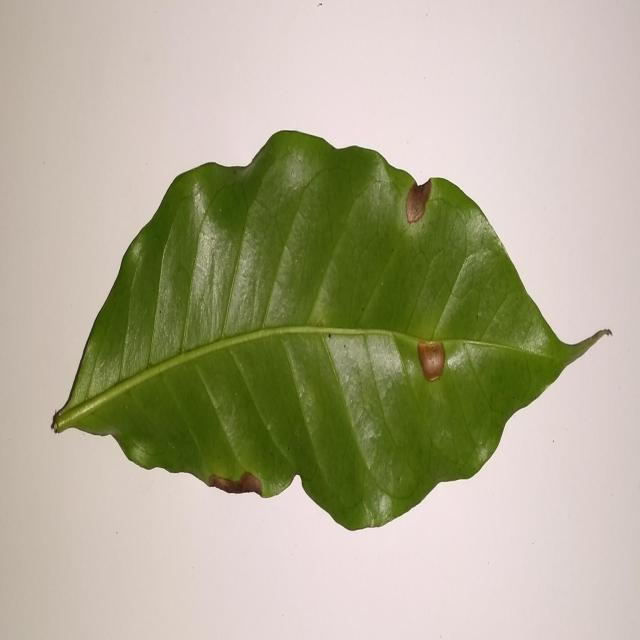phoma: (388, 166, 432, 231), (208, 472, 273, 497), (417, 341, 445, 381)
